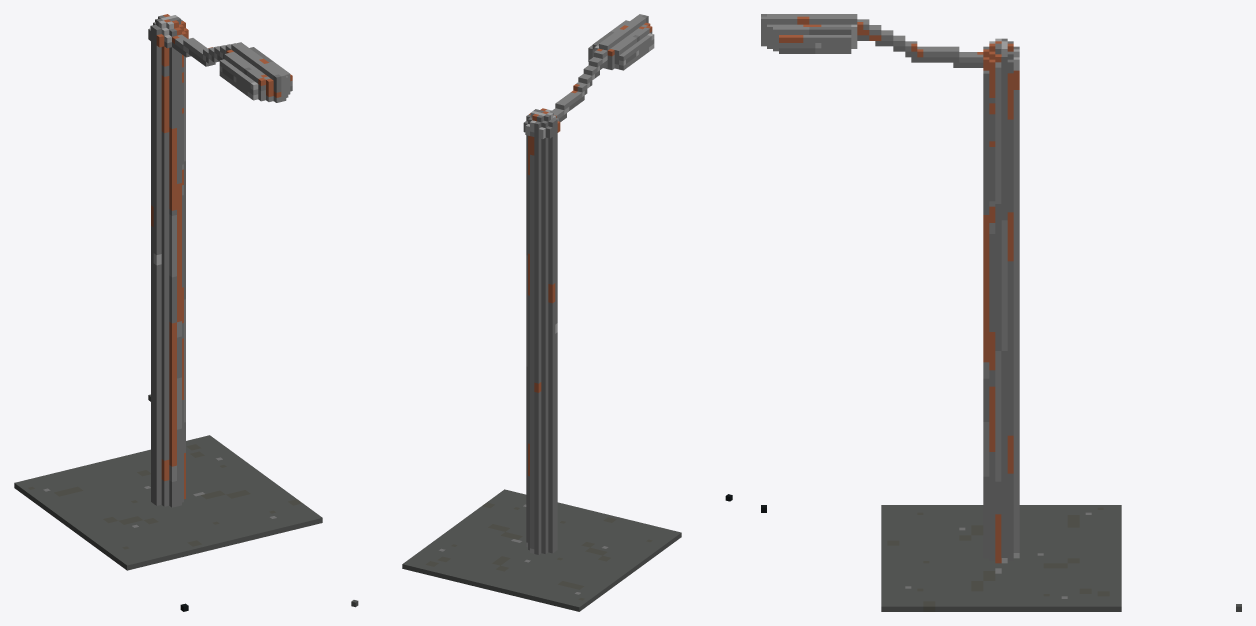
The model's file is Poste_01.obj.
3 views of the same model, side by side, from view 1: azimuth 30°, elevation 25°; view 2: azimuth 150°, elevation 25°; view 3: azimuth 270°, elevation 25° (orthographic). The views are drawn at different scales.
Size of the model in its own units: 40 by 100 by 80.
Materials: 1 (1 with a texture image).
